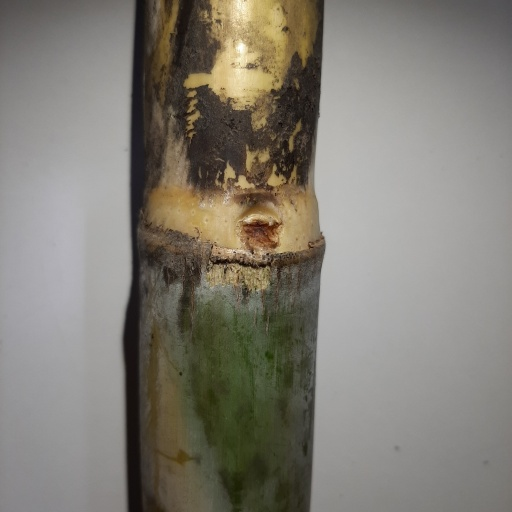Damage_Bud: (242, 206, 281, 252)
